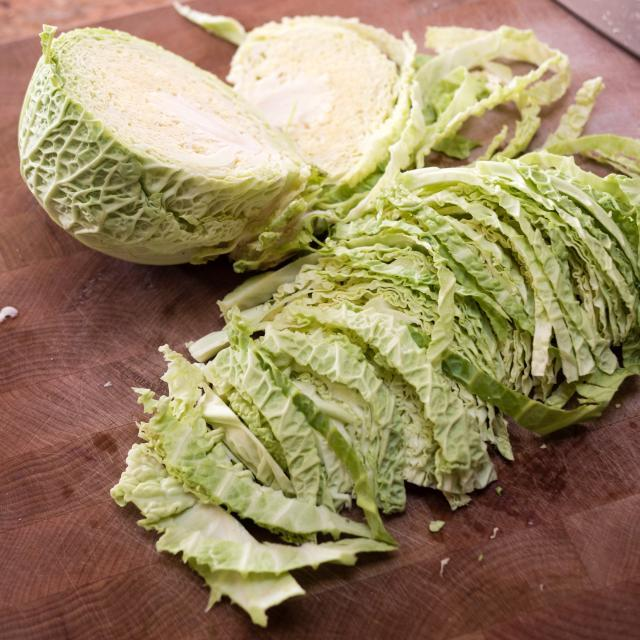cabbage: (3, 5, 432, 252)
